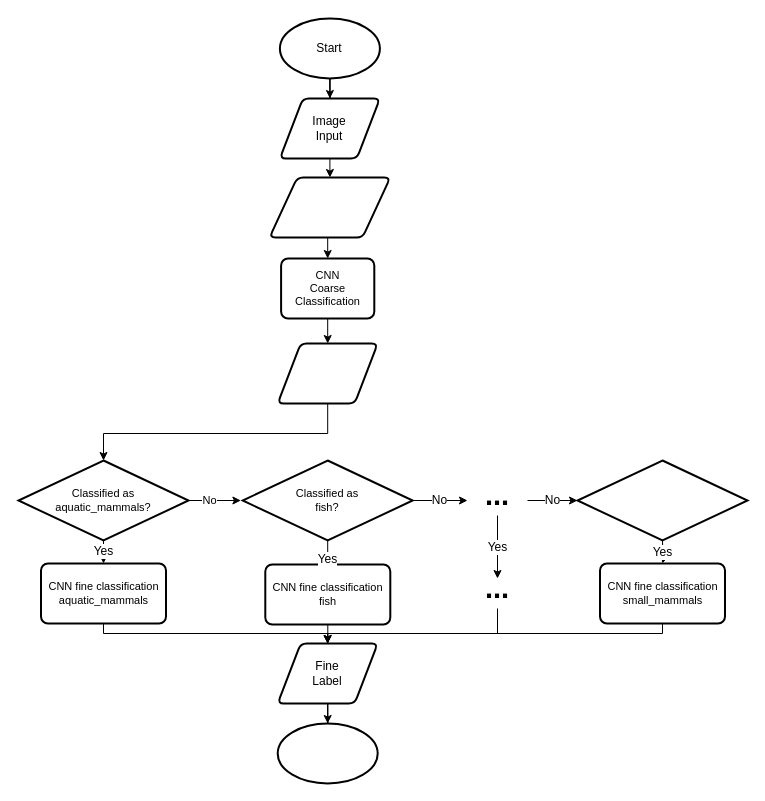
Some shapes in this 765 by 801 pixel diagram are drawn without their labels. The box of each missing label's shape, as (x1, y1, x2, y2) in pixels:
Classified as small_mammals ?: (576, 459, 748, 541)
Coarse Label: (276, 342, 378, 404)
Finish: (276, 722, 378, 784)
Image Preprocessing: (268, 176, 391, 238)
